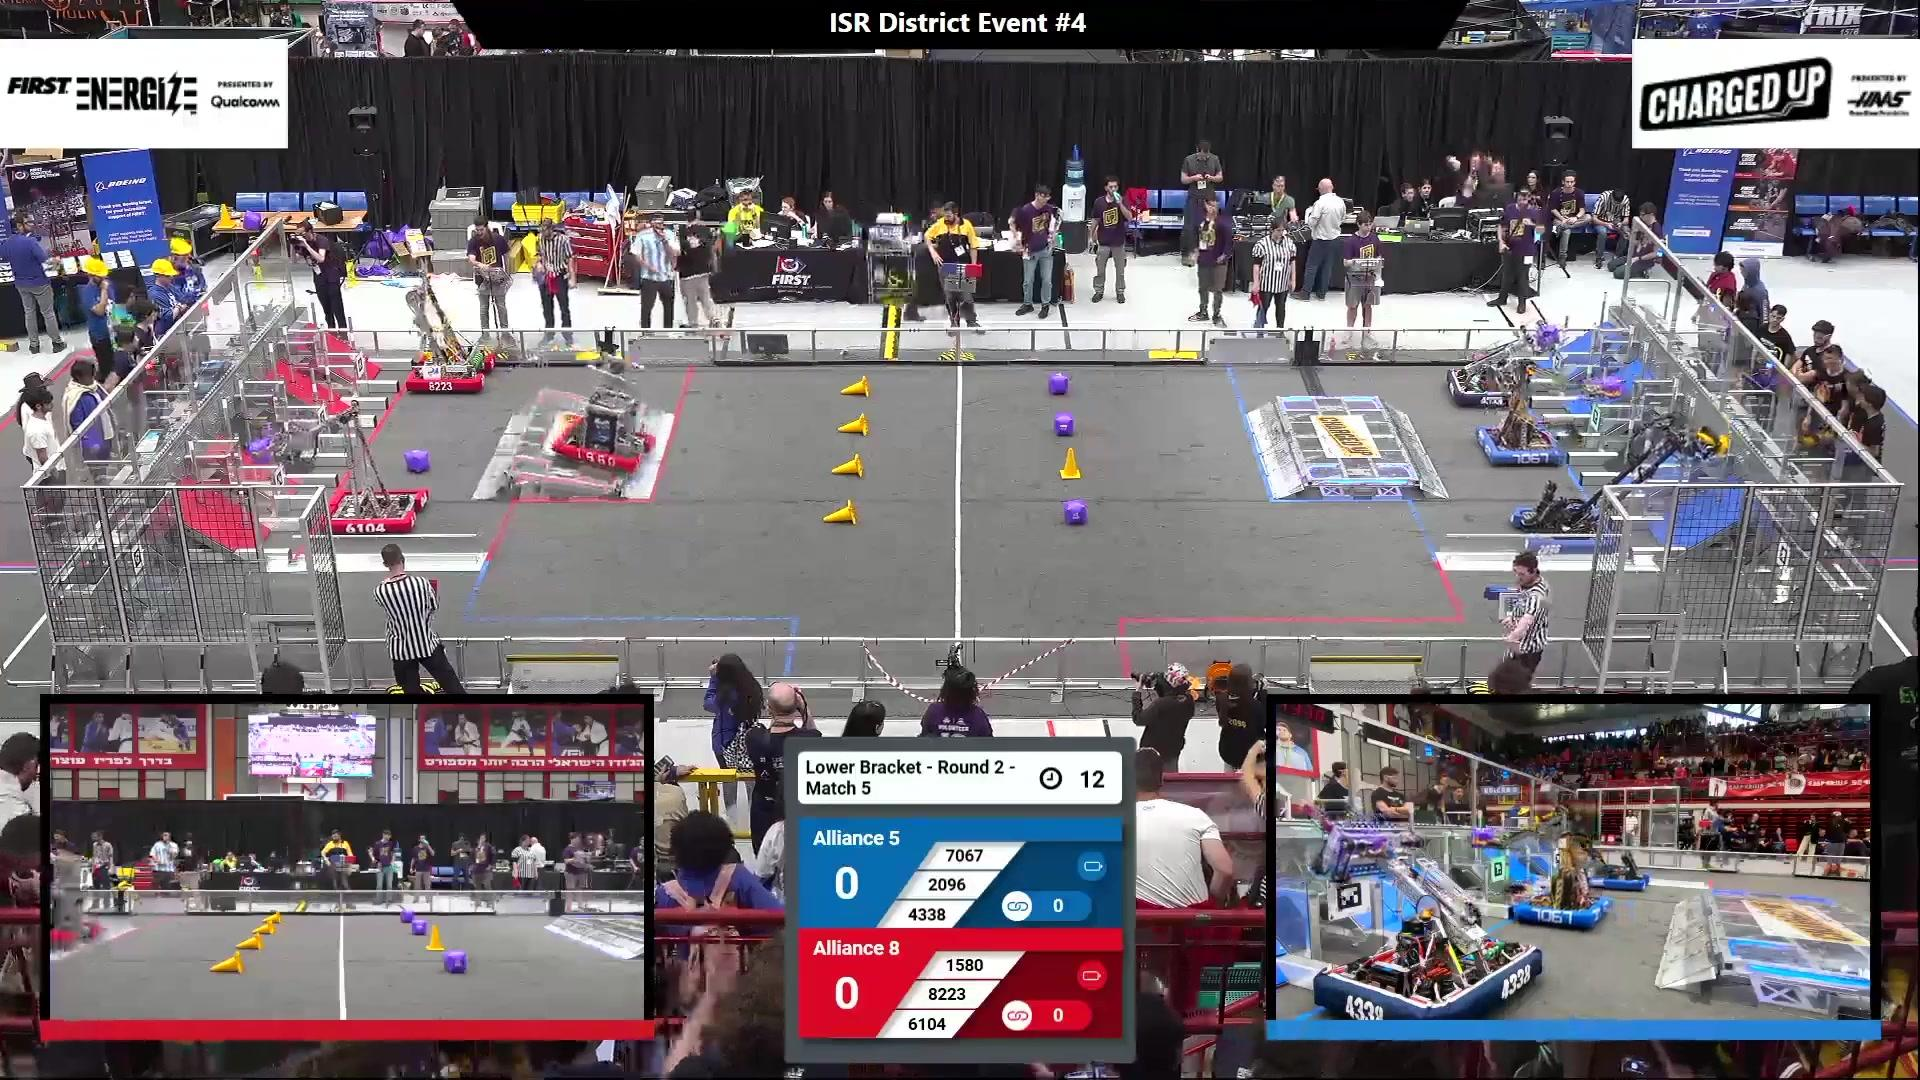robot: (1305, 810, 1548, 1021), (1510, 421, 1733, 549), (252, 402, 427, 535), (1472, 803, 1614, 931), (1476, 357, 1623, 468), (1527, 804, 1651, 890), (1445, 319, 1563, 407), (404, 281, 493, 393), (553, 382, 657, 476), (1445, 334, 1527, 407)
